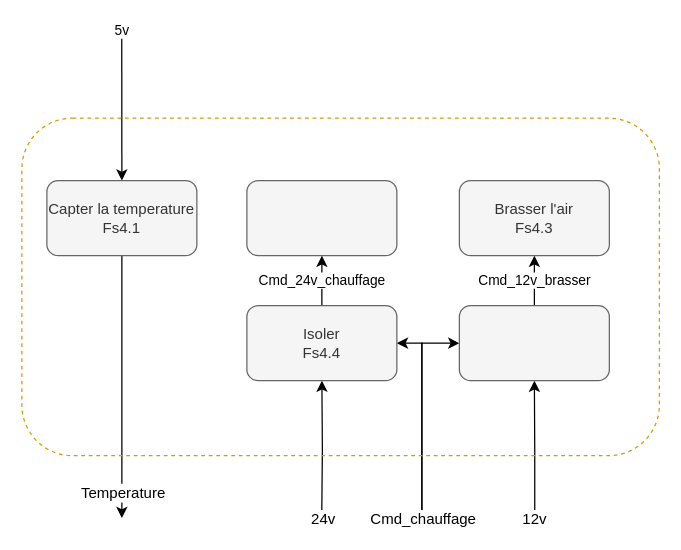
Image size: 681x550. Some labels were removed from this diagram. The shapes that lost their labels are listed below. From the top down, each one's centre as x and y in pixels, then its label:
(321,217): Chauffer Fs4.2
(533,342): Isoler Fs4.5
